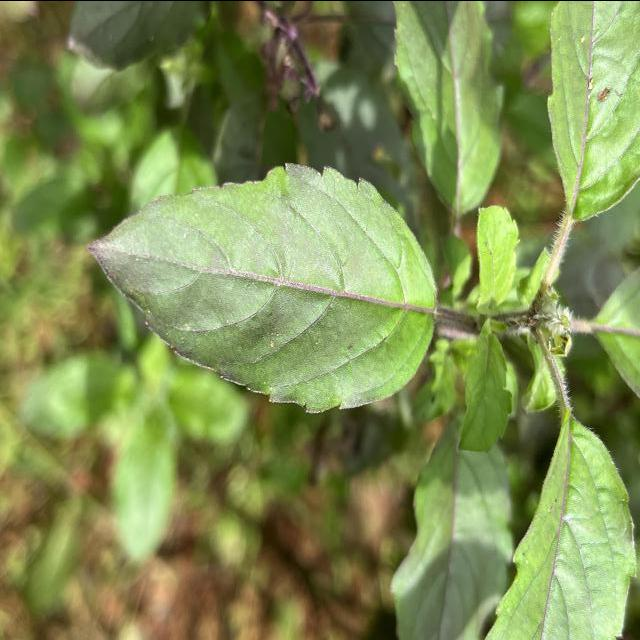Ocimum tenuiflorum: (83, 156, 443, 417)
